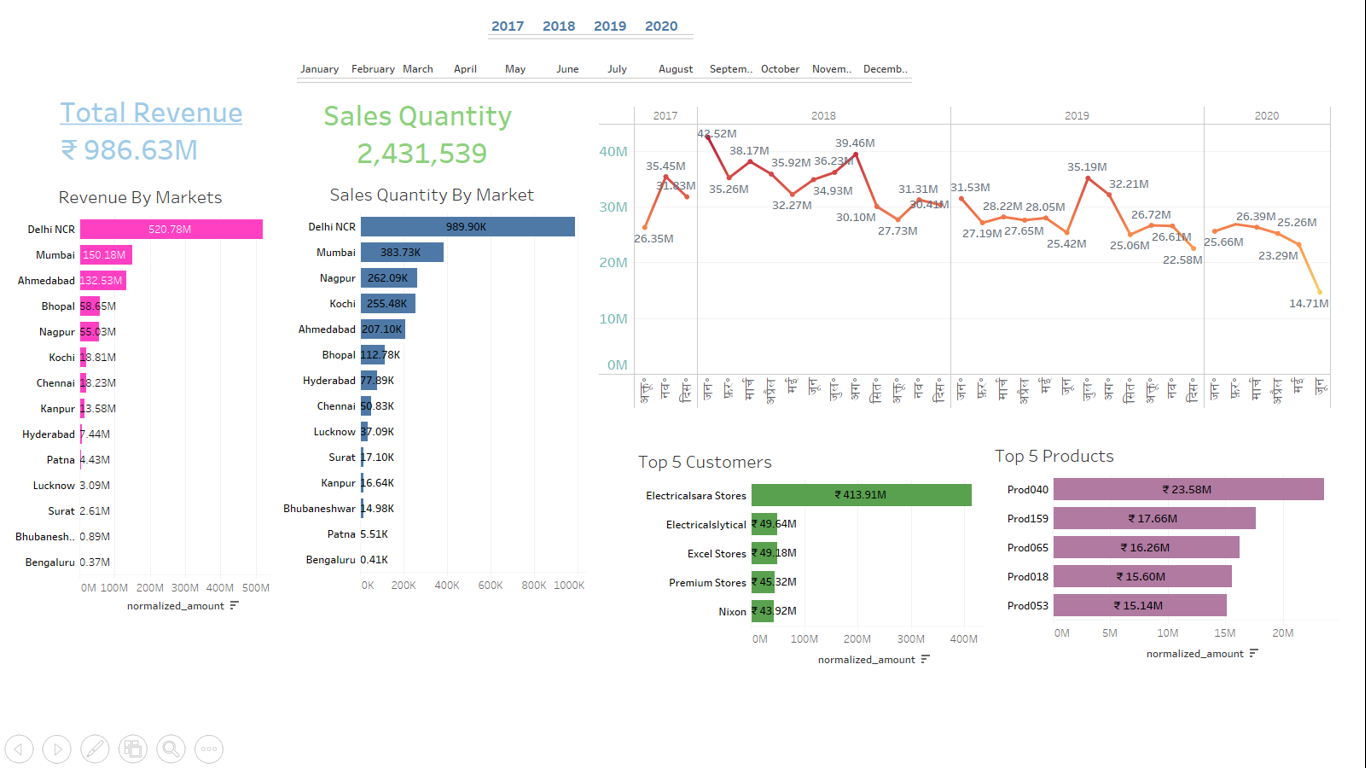

This screenshot's page, from the dashboard's own definition file:
{"tool":"tableau","page":{"name":"Dashboard 1","canvas":[1600,900],"ordinal":0},"visuals":[{"type":"worksheet","title":"Year","mark":"Automatic","cols":["cy_date"],"box":[572,4,266,45]},{"type":"worksheet","title":"Month","mark":"Automatic","cols":["month_name"],"box":[348,55,754,48]},{"type":"worksheet","title":"Revenue","mark":"Automatic","box":[66,94,247,120]},{"type":"worksheet","title":"Quantity","mark":"Automatic","box":[375,98,245,129]},{"type":"worksheet","title":"Revenue By Year","mark":"Automatic","rows":["Calculation_873979848027291648"],"cols":["cy_date","cy_date"],"box":[702,110,858,369]},{"type":"worksheet","title":"Sales Quantity By Markets","mark":"Automatic","rows":["markets_name"],"cols":["sales_qty"],"box":[326,207,361,517]},{"type":"worksheet","title":"Revenue BY Markets","mark":"Automatic","rows":["markets_name"],"cols":["Calculation_873979848027291648"],"box":[9,210,311,565]},{"type":"worksheet","title":"Top 5 Products","mark":"Automatic","rows":["product_code (products)"],"cols":["Calculation_873979848027291648"],"box":[1162,513,406,374]},{"type":"worksheet","title":"Top 5 Customers","mark":"Automatic","rows":["custmer_name"],"cols":["Calculation_873979848027291648"],"box":[744,520,408,360]}]}

Visuals, with their boxes on the page's 1600x900 design canvas (x1, y1, x2, y2). These are canvas units, not pixel positions in the 1366x768 screenshot, which may show the page scaled, cropped or inside an application window:
"Year" worksheet: (x1=572, y1=4, x2=838, y2=49)
"Month" worksheet: (x1=348, y1=55, x2=1102, y2=103)
"Revenue" worksheet: (x1=66, y1=94, x2=313, y2=214)
"Quantity" worksheet: (x1=375, y1=98, x2=620, y2=227)
"Revenue By Year" worksheet: (x1=702, y1=110, x2=1560, y2=479)
"Sales Quantity By Markets" worksheet: (x1=326, y1=207, x2=687, y2=724)
"Revenue BY Markets" worksheet: (x1=9, y1=210, x2=320, y2=775)
"Top 5 Products" worksheet: (x1=1162, y1=513, x2=1568, y2=887)
"Top 5 Customers" worksheet: (x1=744, y1=520, x2=1152, y2=880)
